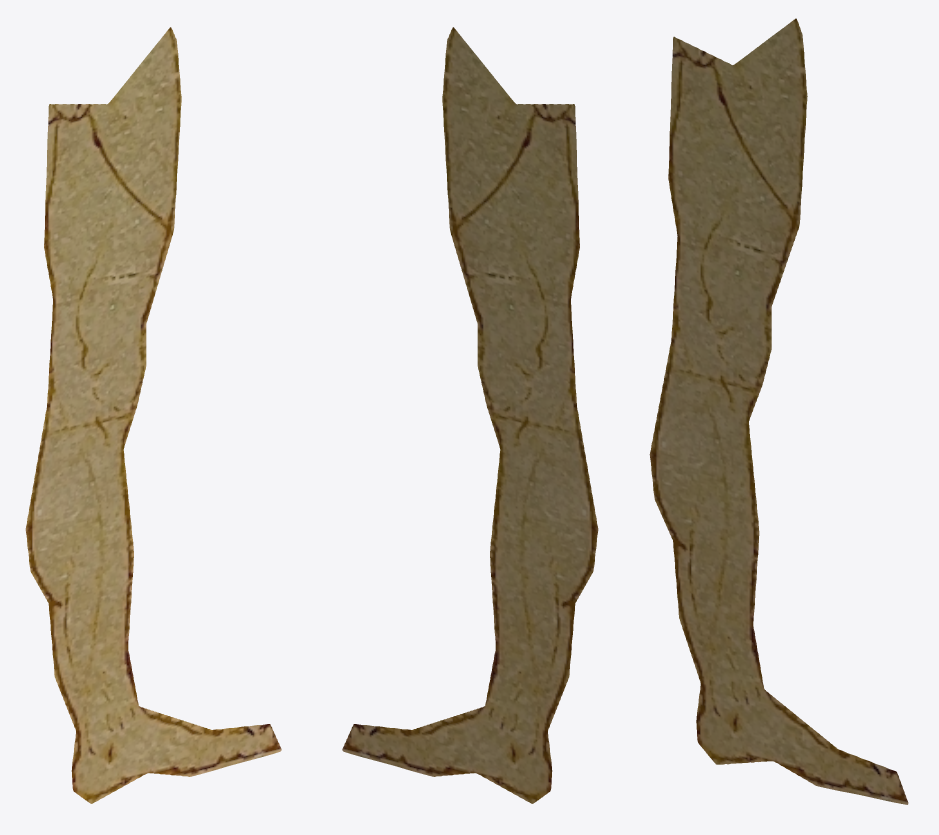
Rendered from leg_Rmid.fbx.
3 views of the same model, side by side, from view 1: azimuth 30°, elevation 25°; view 2: azimuth 150°, elevation 25°; view 3: azimuth 330°, elevation 25° (orthographic).
Visible parts, largest first — view 1: leg_Rmid; view 2: leg_Rmid; view 3: leg_Rmid.
Part boxes in pixels (x1,y1,x2,y2): leg_Rmid: [25, 27, 281, 803]; leg_Rmid: [342, 27, 598, 803]; leg_Rmid: [649, 18, 908, 804].
Size of the model in its own units: 61.46 by 162 by 1.22e-05.
